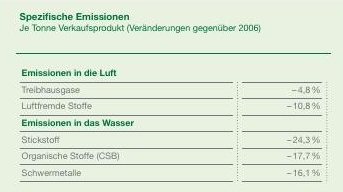table: (0, 0, 343, 192)
